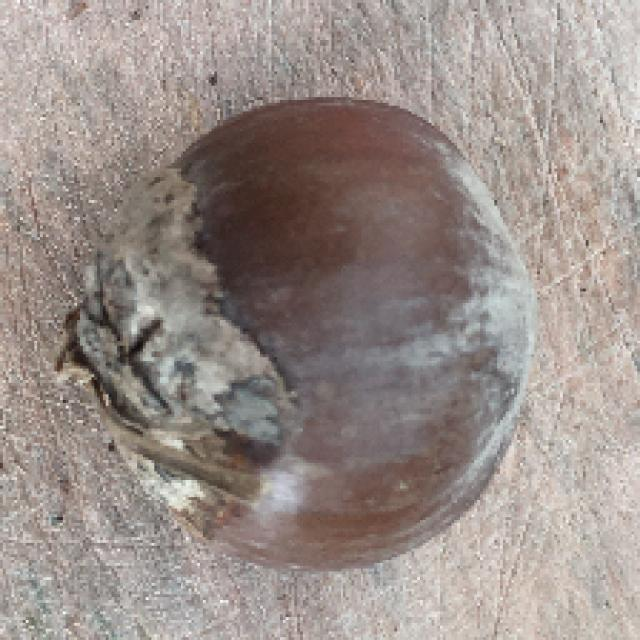damagedHazelnut: (74, 92, 540, 576)
